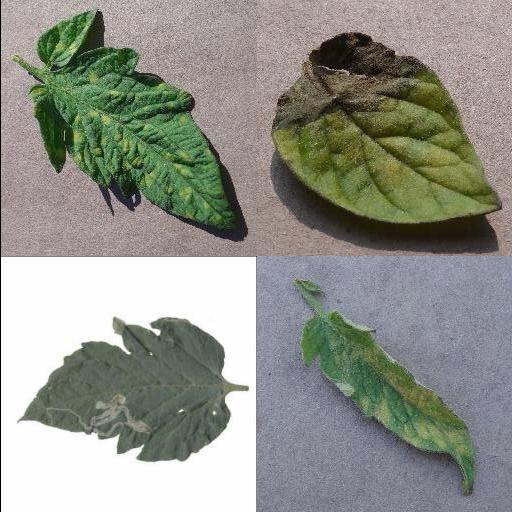Late Blight: (269, 33, 503, 225)
Leaf Miner: (17, 314, 231, 462)
Leaf Mold: (26, 12, 234, 228), (299, 312, 477, 494)
